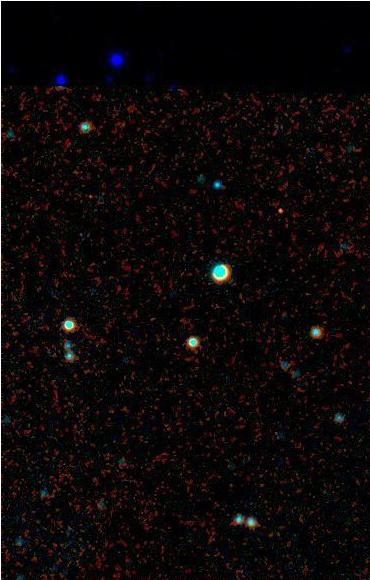star: (264, 196, 294, 226)
